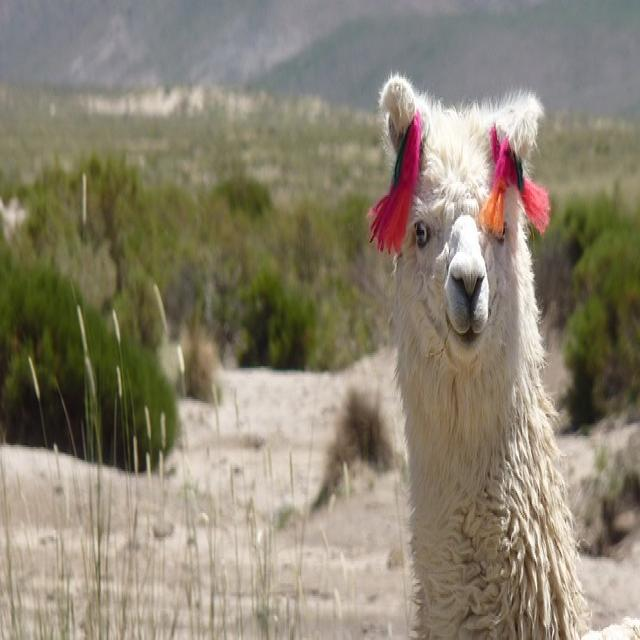Herbivorous: (366, 77, 592, 640)
